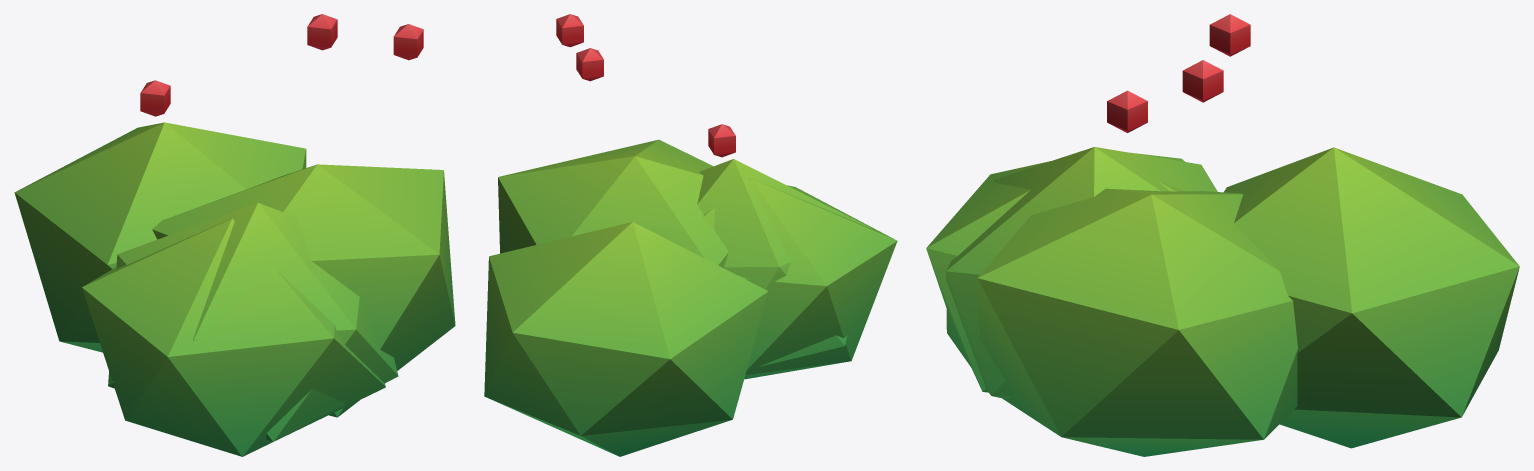
Rendered from bush_a.glb.
The picture shows the model from 3 angles, left to right: view 1: azimuth 30°, elevation 25°; view 2: azimuth 150°, elevation 25°; view 3: azimuth 270°, elevation 25°; orthographic projection. The views are drawn at different scales.
Parts seen in each view (by area): view 1: bush_a; view 2: bush_a; view 3: bush_a.
Part boxes in pixels (x1,y1,x2,y2): bush_a: (14, 14, 455, 456); bush_a: (484, 14, 897, 456); bush_a: (926, 14, 1519, 456).
Size of the model in its own units: 0.8287 by 0.829 by 1.01.
1 material, 1 textured.
